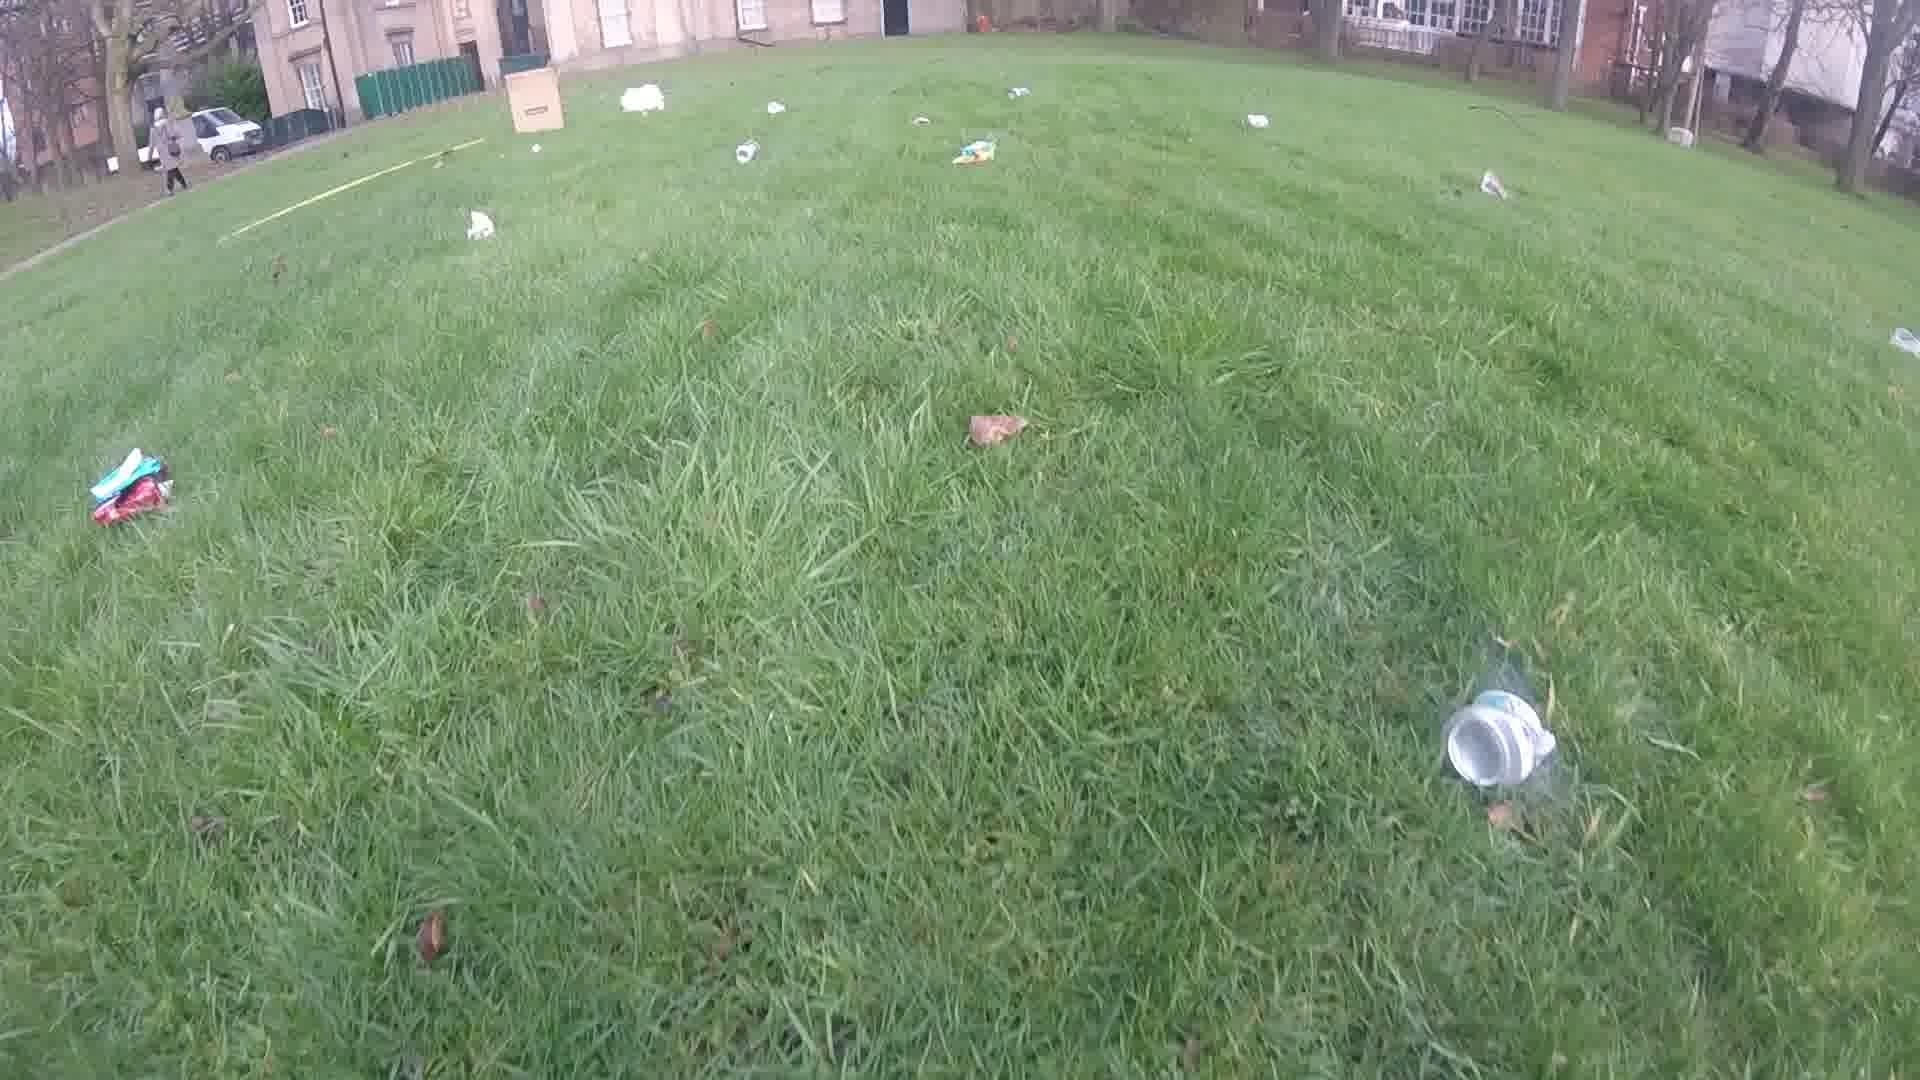litter: (1441, 688, 1560, 787), (86, 444, 171, 527), (506, 65, 564, 135), (618, 84, 666, 113), (953, 138, 1000, 162), (462, 210, 495, 241), (1474, 166, 1506, 199), (1884, 327, 1920, 352), (735, 137, 758, 162), (1244, 113, 1269, 127), (1007, 86, 1029, 98), (767, 102, 786, 113), (913, 115, 934, 123), (529, 145, 545, 153)
